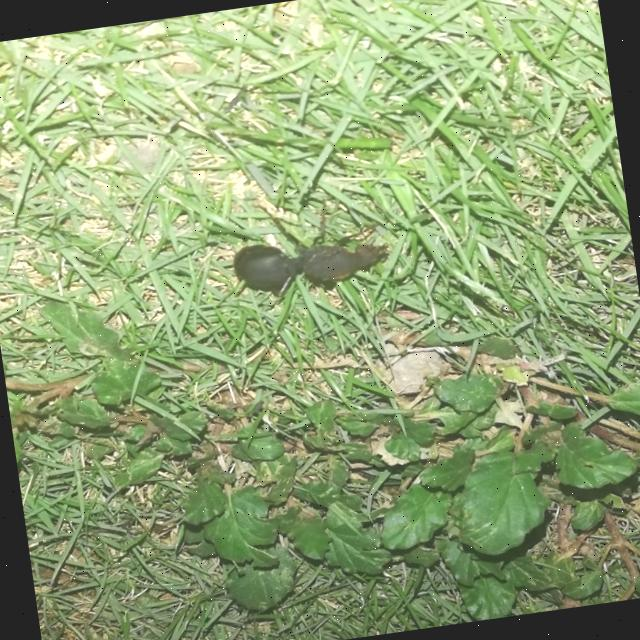Alive-Female-Dealate: (225, 186, 394, 296)
